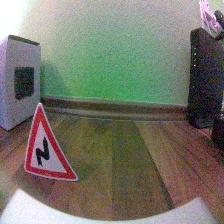vorsicht: (24, 101, 80, 184)
